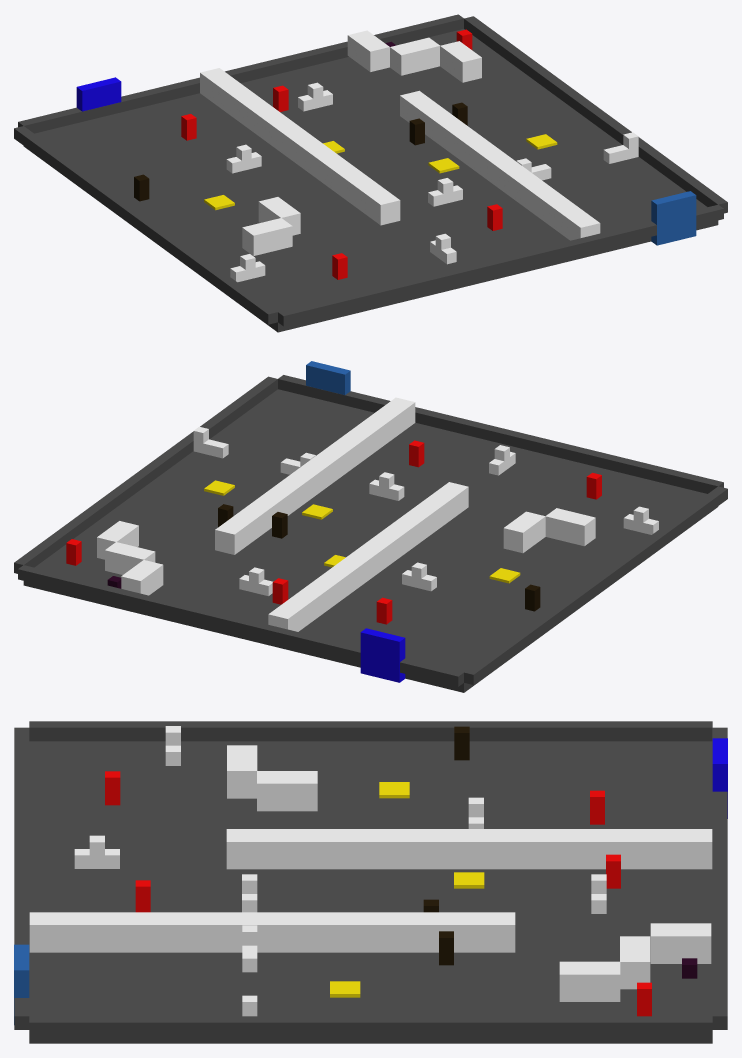
Rendered from level1_b09_45.FBX.
3 renders of one model, top to bottom at view 1: azimuth 30°, elevation 25°; view 2: azimuth 150°, elevation 25°; view 3: azimuth 270°, elevation 25°, orthographic. The views are drawn at different scales.
Parts seen in each view (by area): view 1: Box004, Box008, Box007, Box005, Box025, Box010, Box009, Box011, Box006, Box026, Box013, Box016 (+4 smaller); view 2: Box004, Box007, Box008, Box006, Box025, Box026, Box005, Box009, Box010, Box011, Box013, Box014 (+4 smaller); view 3: Box004, Box008, Box007, Box011, Box026, Box009, Box025, Box010, Box015, Box006, Box005, Box012 (+13 smaller).
Part boxes in pixels (left/top/right/bottom): Box004: left=14, top=14, right=727, bottom=332; Box008: left=200, top=68, right=400, bottom=225; Box007: left=400, top=90, right=600, bottom=240; Box005: left=651, top=191, right=696, bottom=245; Box025: left=242, top=218, right=292, bottom=255; Box010: left=390, top=37, right=439, bottom=75; Box009: left=347, top=30, right=389, bottom=71; Box011: left=440, top=41, right=481, bottom=82; Box006: left=76, top=77, right=121, bottom=111; Box026: left=258, top=197, right=300, bottom=235; Box013: left=603, top=132, right=638, bottom=163; Box016: left=226, top=144, right=261, bottom=173; Box004: left=14, top=375, right=727, bottom=692; Box007: left=215, top=397, right=415, bottom=554; Box008: left=268, top=482, right=468, bottom=631; Box006: left=360, top=628, right=405, bottom=682; Box025: left=545, top=508, right=595, bottom=546; Box026: left=503, top=511, right=545, bottom=553; Box005: left=306, top=361, right=350, bottom=394; Box009: left=121, top=560, right=163, bottom=595; Box010: left=105, top=542, right=155, bottom=574; Box011: left=97, top=521, right=138, bottom=559; Box013: left=193, top=426, right=228, bottom=458; Box014: left=369, top=472, right=404, bottom=500; Box004: left=14, top=721, right=727, bottom=1043; Box008: left=226, top=829, right=712, bottom=869; Box007: left=29, top=912, right=515, bottom=952; Box011: left=559, top=961, right=620, bottom=1001; Box026: left=257, top=771, right=317, bottom=811; Box009: left=650, top=923, right=711, bottom=963; Box025: left=227, top=745, right=257, bottom=798; Box010: left=620, top=936, right=650, bottom=989; Box015: left=74, top=835, right=119, bottom=868; Box006: left=712, top=738, right=727, bottom=818; Box005: left=14, top=944, right=29, bottom=1024; Box012: left=242, top=925, right=257, bottom=972.
Bounding box in the file's own units: 1849 × 157 × 1852.
